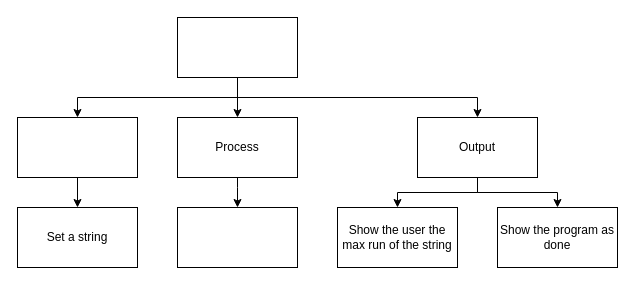
The diagram is 635 pixels wide and 285 high, and some of its shapes have lost their labels. The shapes that lost their labels are listed below. From the top down, each one's centre as x and y in pixels, then its label:
point (237, 47): Finding the Max Run of a String
point (77, 147): Input
point (237, 237): Find the max run of the string
